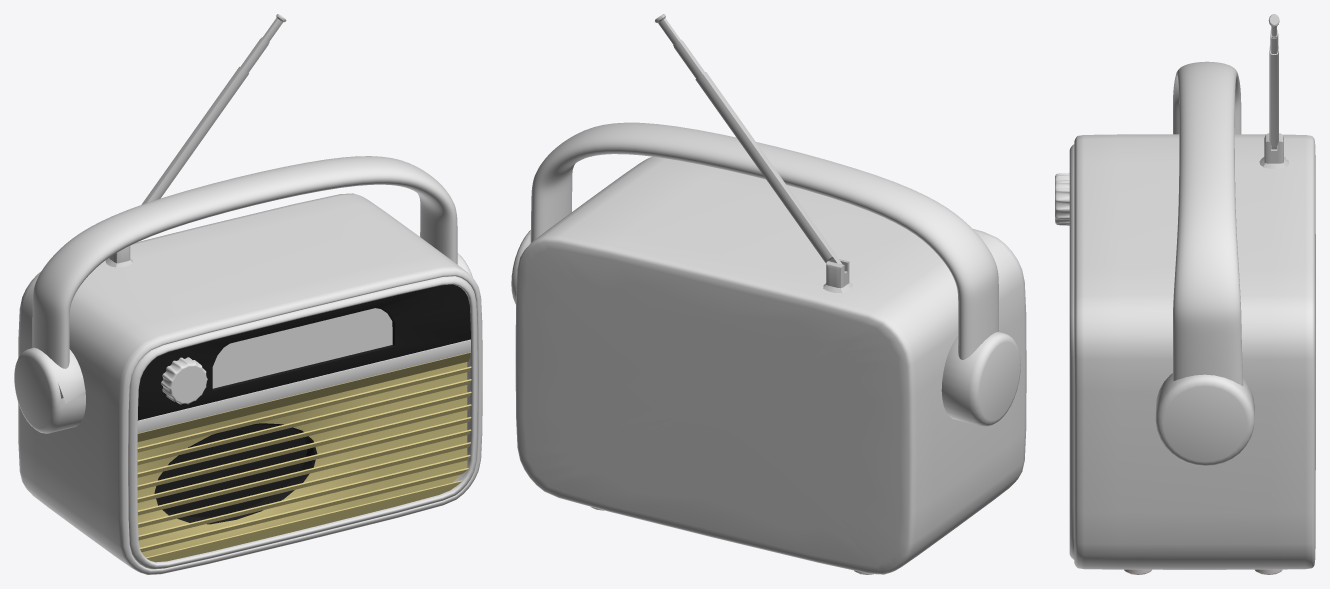
Rendered from Radio up.fbx.
3 views of the same model, side by side, from view 1: azimuth 30°, elevation 25°; view 2: azimuth 150°, elevation 25°; view 3: azimuth 270°, elevation 25° (orthographic). The views are drawn at different scales.
Visible parts, largest first — view 1: Cube, Cube.001, Plane, Cube.002, Cylinder, Plane.001, Cylinder.003; view 2: Cube, Plane, Cylinder, Plane.001; view 3: Cube, Plane, Cylinder, Plane.001, Cylinder.003.
Part boxes in pixels (left/top/right/bottom): Cube: left=18, top=193, right=482, bottom=574; Cube.001: left=115, top=308, right=471, bottom=562; Plane: left=32, top=156, right=457, bottom=368; Cube.002: left=137, top=284, right=470, bottom=420; Cylinder: left=14, top=253, right=472, bottom=433; Plane.001: left=105, top=14, right=286, bottom=267; Cylinder.003: left=161, top=357, right=207, bottom=404; Cube: left=515, top=156, right=1026, bottom=574; Plane: left=530, top=122, right=998, bottom=359; Cylinder: left=511, top=230, right=1020, bottom=426; Plane.001: left=655, top=14, right=852, bottom=293; Cube: left=1069, top=134, right=1315, bottom=569; Plane: left=1173, top=61, right=1243, bottom=385; Cylinder: left=1155, top=373, right=1254, bottom=466; Plane.001: left=1259, top=14, right=1289, bottom=168; Cylinder.003: left=1055, top=173, right=1069, bottom=225.
Bounding box in the file's own units: 367 × 381 × 172.
